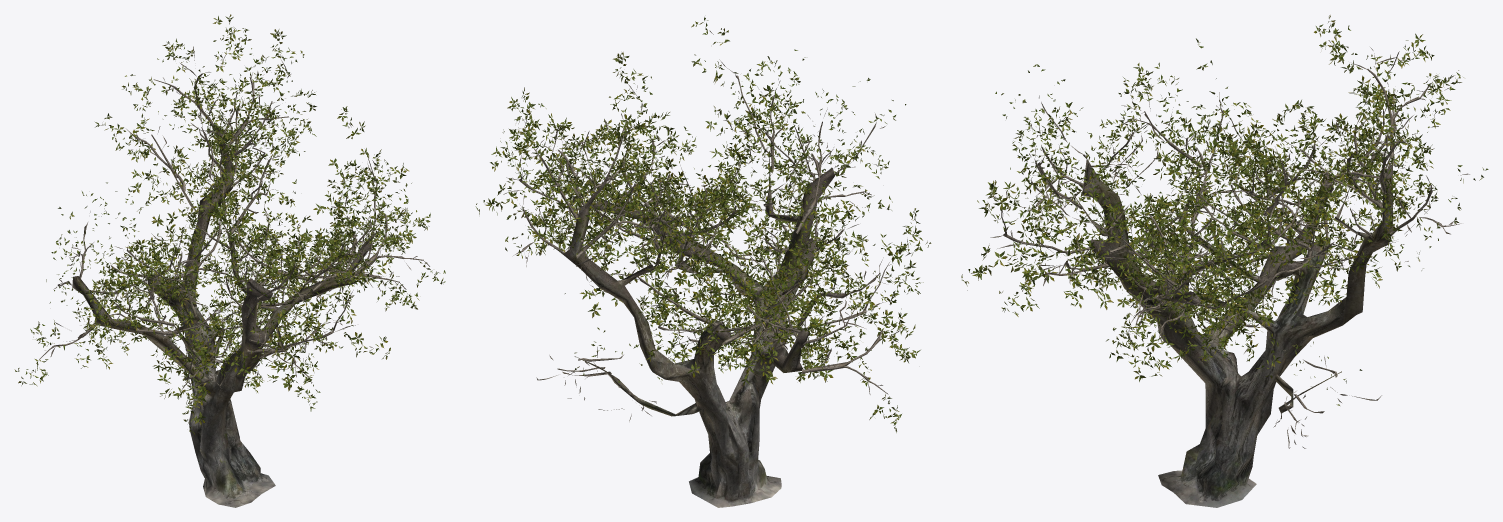
The model's file is island_tree_01.glb.
3 renders of one model, left to right at view 1: azimuth 30°, elevation 25°; view 2: azimuth 150°, elevation 25°; view 3: azimuth 270°, elevation 25°, orthographic. The views are drawn at different scales.
Bounding box in the file's own units: 4.71 × 5.02 × 4.79.
Materials: 3 (3 with a texture image).
